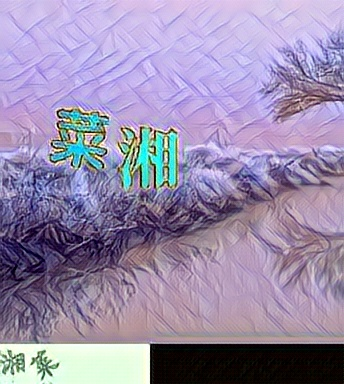B2CB: (46, 103, 111, 167)
CFE6: (115, 125, 180, 189)
